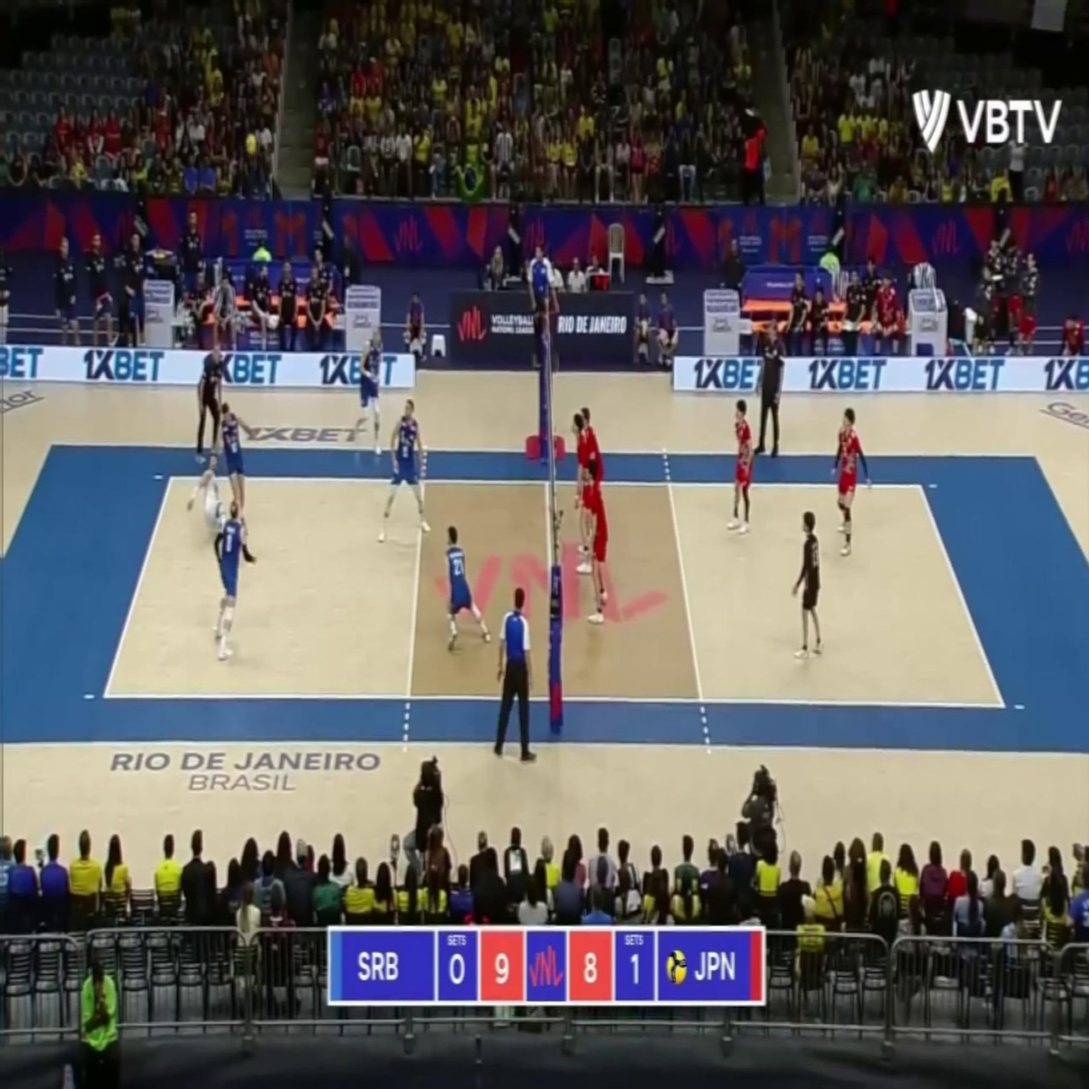ball: (244, 134, 255, 153)
